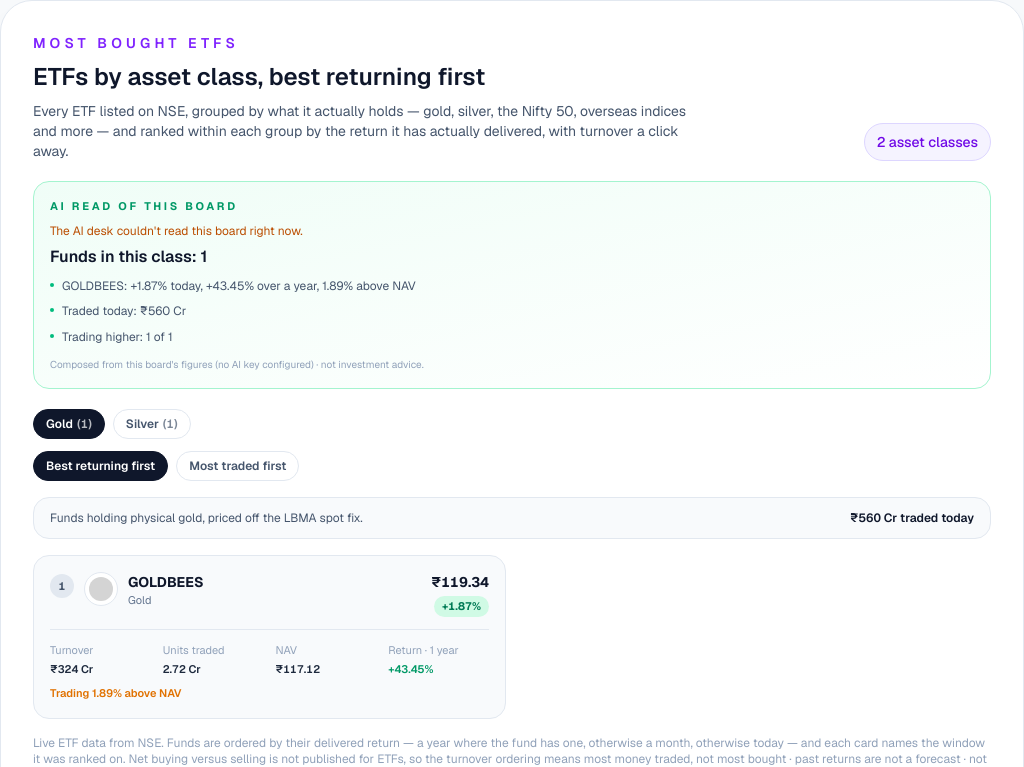
it: EtfBoard › switches asset class on demand
Expected: the text "GOLDBEES" is shown, [128, 572, 204, 592]
Click the tab "Silver(1)". click: click(152, 424)
box: [113, 409, 191, 439]
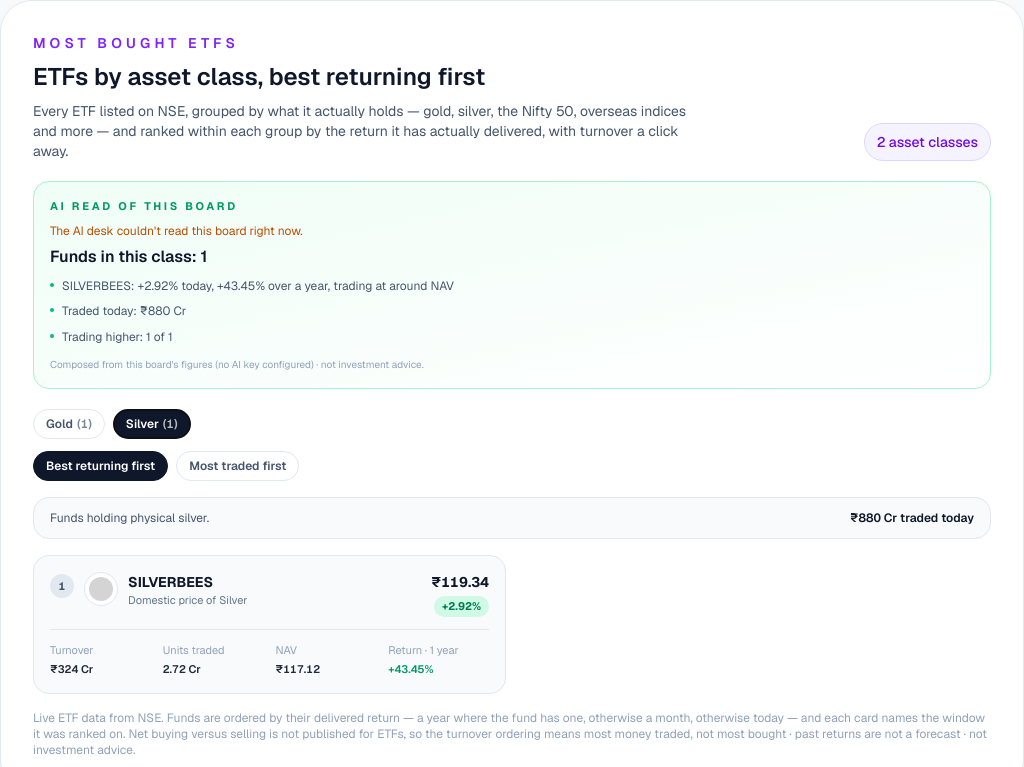
Expected: the text "SILVERBEES" is shown, [128, 573, 213, 591]
Expected: the list item "GOLDBEES" is gone
Expected: the list item "above NAV" is gone
